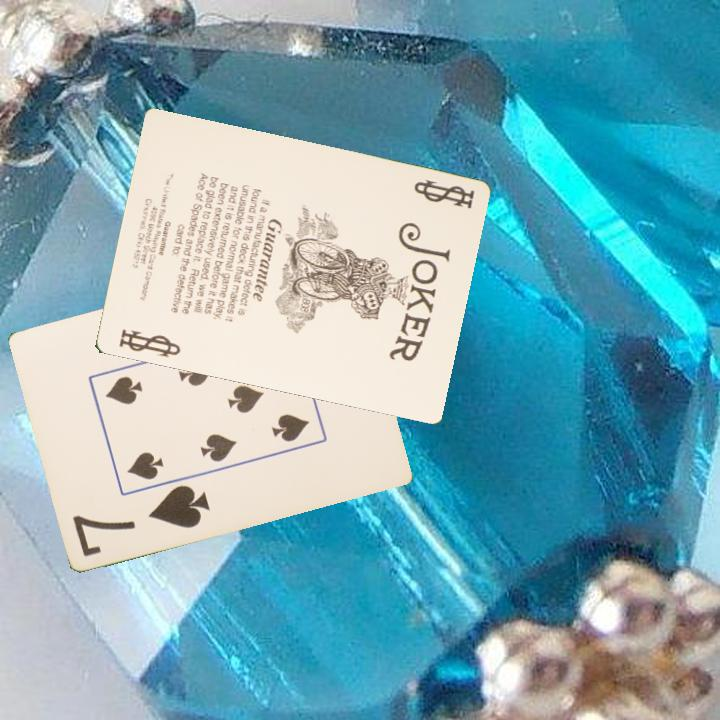7s: (69, 481, 214, 559)
JK: (410, 176, 477, 213), (115, 326, 183, 361)
